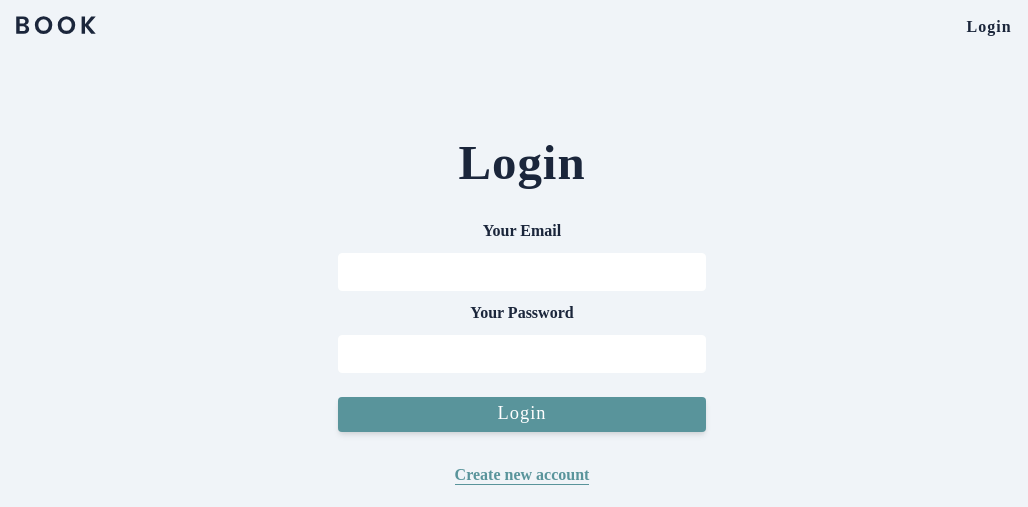
Test case: clicking Create new account button, title switches to Register
Click the button "Create new account": (522, 476) [431,464,613,488]
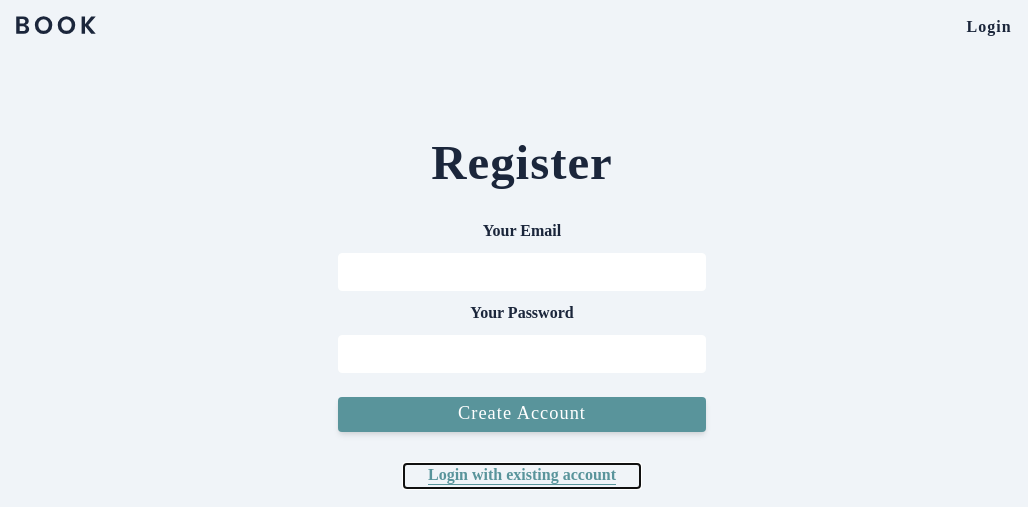
Check: the heading "Register" is shown, box [431,135,613,190]
Check: the button "Create Account" is shown, box [338,396,706,432]
